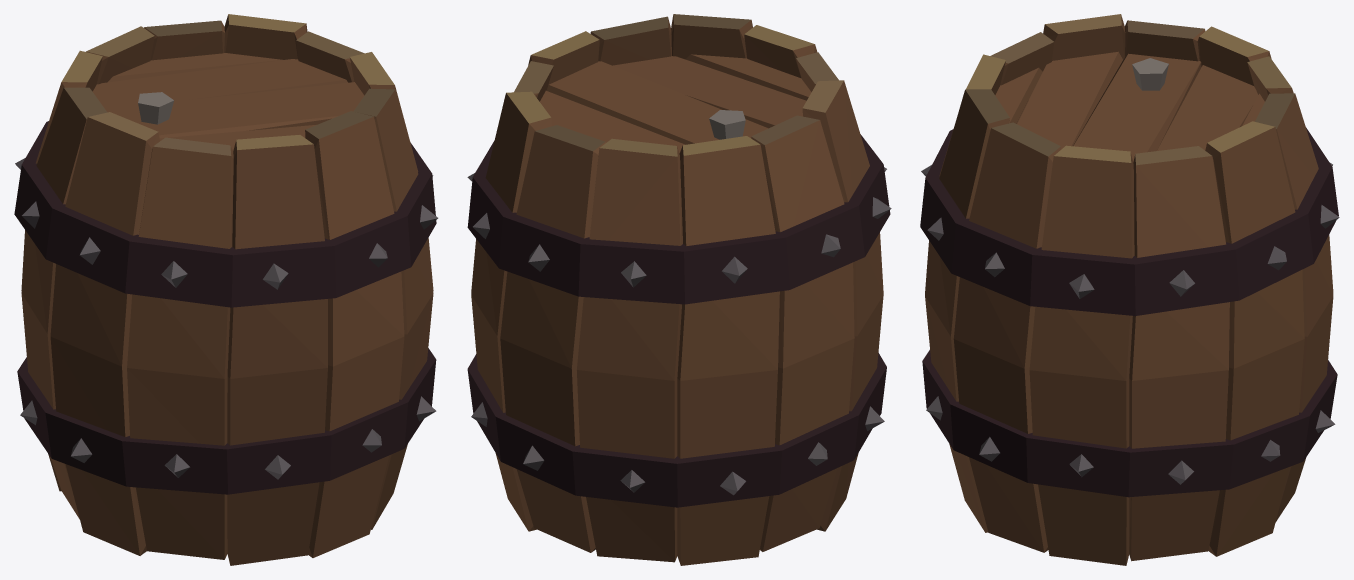
3 views of the same model, side by side, from view 1: azimuth 30°, elevation 25°; view 2: azimuth 150°, elevation 25°; view 3: azimuth 270°, elevation 25° (orthographic).
Parts seen in each view (by area): view 1: mff_prop_barrel; view 2: mff_prop_barrel; view 3: mff_prop_barrel.
Part boxes in pixels (<box>): mff_prop_barrel: <box>14,14,438,565</box>; mff_prop_barrel: <box>467,14,891,565</box>; mff_prop_barrel: <box>920,14,1339,565</box>.
Size of the model in its own units: 1.27 by 1.39 by 1.28.
1 material, 1 textured.
